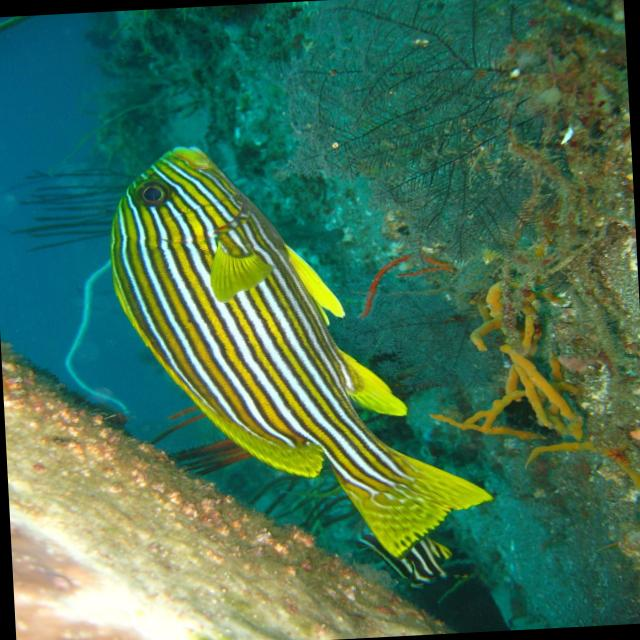RibbonedSweetlips: (101, 128, 497, 574)
